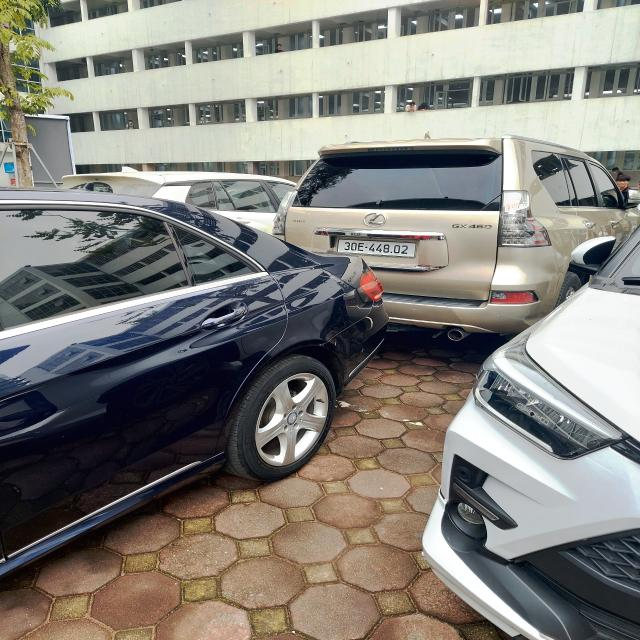license_plate: (338, 239, 418, 258)
